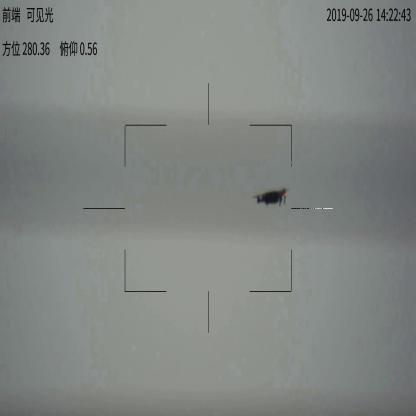uav: (250, 186, 290, 208)
